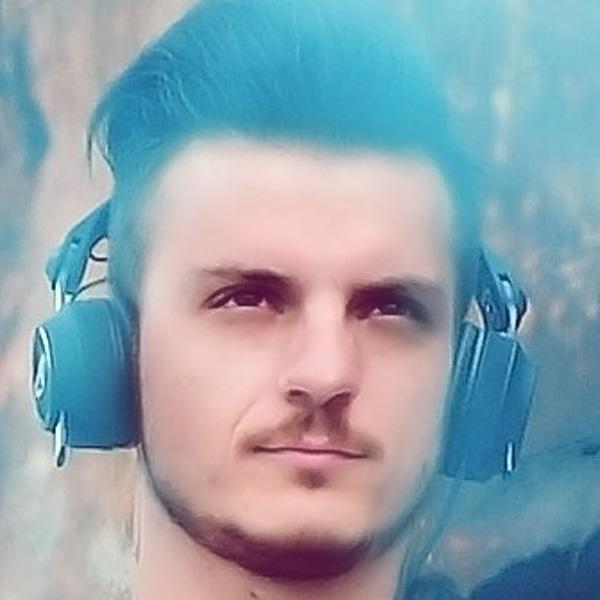Eyes: (198, 274, 290, 324), (347, 285, 429, 332)
